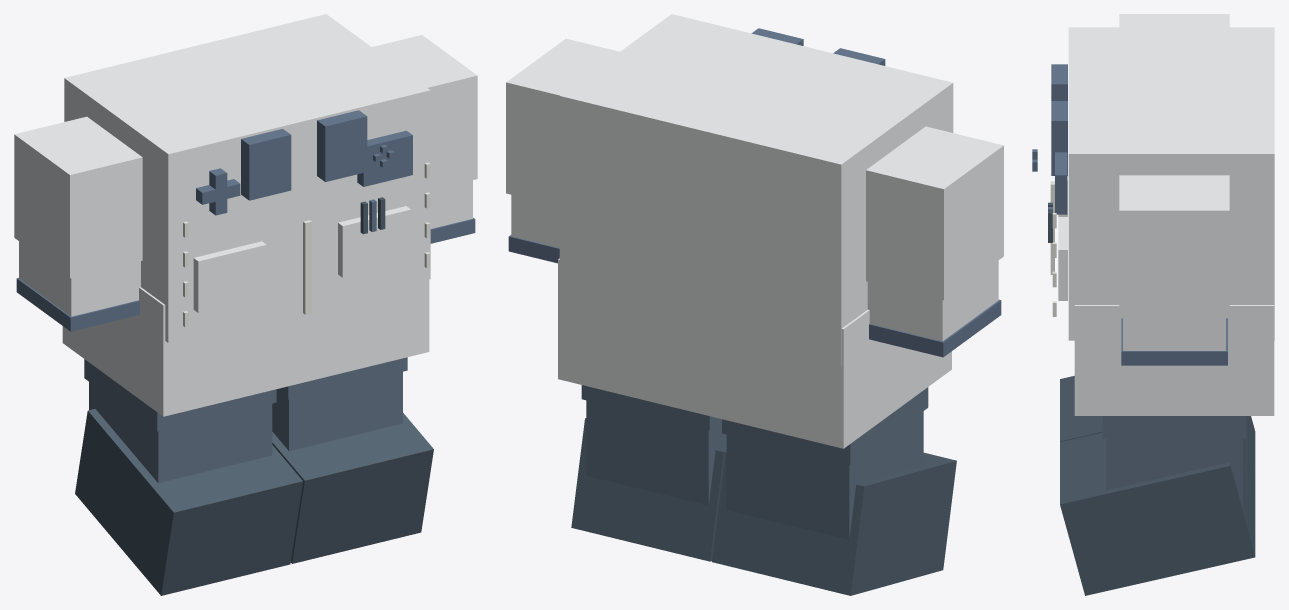
File: pharmacy-navy.glb
3 renders of one model, left to right at view 1: azimuth 30°, elevation 25°; view 2: azimuth 150°, elevation 25°; view 3: azimuth 270°, elevation 25°, orthographic. The views are drawn at different scales.
Visible parts, largest first — view 1: jacket, coat-tails, shoe-Right, upper-sleeve-Right, shoe-Left, lower-trouser-Right, upper-sleeve-Left, lower-trouser-Left, lower-sleeve-Right, pocket--1, pocket-1, lapel-1 (+10 smaller); view 2: jacket, coat-tails, upper-sleeve-Right, shoe-Right, lower-trouser-Right, lower-trouser-Left, upper-sleeve-Left, shoe-Left, lower-sleeve-Right, trouser-Right, cuff-Right, lower-sleeve-Left (+2 smaller); view 3: jacket, shoe-Left, coat-tails, upper-sleeve-Left, lower-trouser-Left, lower-sleeve-Left, trouser-Left, shoe-Right, cuff-Left, upper-sleeve-Right, lapel-1, pocket-1 (+2 smaller).
Part boxes in pixels (left/top/right/bottom): jacket: left=64, top=14, right=430, bottom=342; coat-tails: left=62, top=279, right=429, bottom=416; shoe-Right: left=75, top=409, right=302, bottom=595; upper-sleeve-Right: left=14, top=116, right=142, bottom=278; shoe-Left: left=272, top=413, right=433, bottom=563; lower-trouser-Right: left=89, top=382, right=272, bottom=482; upper-sleeve-Left: left=372, top=35, right=477, bottom=190; lower-trouser-Left: left=272, top=372, right=402, bottom=451; lower-sleeve-Right: left=19, top=241, right=140, bottom=316; pocket--1: left=193, top=241, right=266, bottom=312; pocket-1: left=338, top=206, right=411, bottom=277; lapel-1: left=317, top=110, right=367, bottom=181; jacket: left=559, top=14, right=953, bottom=367; coat-tails: left=558, top=258, right=951, bottom=448; upper-sleeve-Right: left=866, top=126, right=1003, bottom=300; shoe-Right: left=712, top=452, right=956, bottom=595; lower-trouser-Right: left=726, top=411, right=923, bottom=539; lower-trouser-Left: left=586, top=400, right=726, bottom=505; upper-sleeve-Left: left=506, top=38, right=619, bottom=206; shoe-Left: left=571, top=418, right=726, bottom=561; lower-sleeve-Right: left=867, top=260, right=998, bottom=341; trouser-Right: left=722, top=387, right=928, bottom=464; cuff-Right: left=869, top=299, right=1001, bottom=357; lower-sleeve-Left: left=511, top=195, right=559, bottom=247; jacket: left=1068, top=27, right=1274, bottom=340; shoe-Left: left=1060, top=432, right=1255, bottom=595; coat-tails: left=1074, top=305, right=1274, bottom=415; upper-sleeve-Left: left=1119, top=175, right=1229, bottom=312; lower-trouser-Left: left=1106, top=439, right=1242, bottom=507; lower-sleeve-Left: left=1123, top=312, right=1225, bottom=350; trouser-Left: left=1102, top=416, right=1246, bottom=438; shoe-Right: left=1060, top=376, right=1255, bottom=493; cuff-Left: left=1121, top=318, right=1227, bottom=365; upper-sleeve-Right: left=1119, top=14, right=1229, bottom=27; lapel-1: left=1051, top=101, right=1067, bottom=175; pocket-1: left=1058, top=217, right=1067, bottom=300.
Size of the model in its own units: 1.07 by 1.13 by 0.559.
